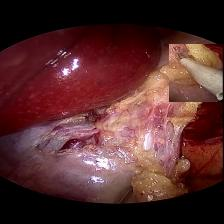Grasper: (114, 183, 144, 203)
Hook: (169, 43, 224, 101)
